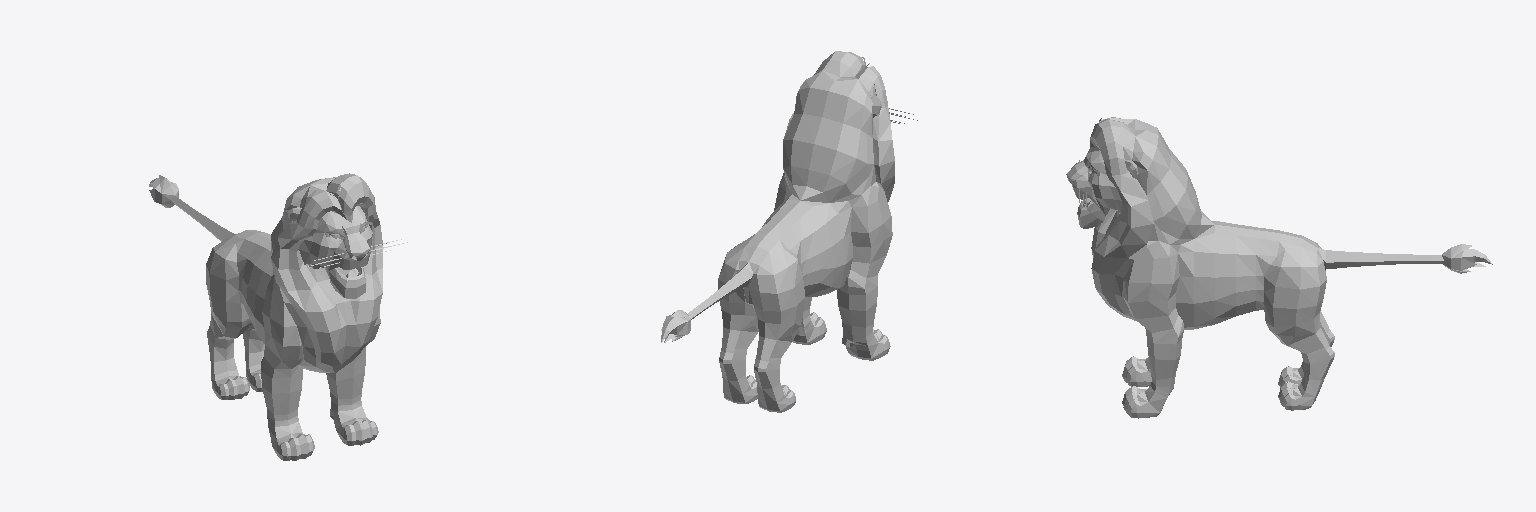
The model's file is zombie5.obj.
3 views of the same model, side by side, from view 1: azimuth 30°, elevation 25°; view 2: azimuth 150°, elevation 25°; view 3: azimuth 270°, elevation 25° (orthographic).
Parts seen in each view (by area): view 1: DrawCall_0, DrawCall_1; view 2: DrawCall_0; view 3: DrawCall_0, DrawCall_1.
Part boxes in pixels (x1,y1,x2,y2): DrawCall_0: (149,173,382,460); DrawCall_1: (288,206,372,298); DrawCall_0: (661,51,894,412); DrawCall_0: (1081,117,1492,418); DrawCall_1: (1066,150,1138,228).
Size of the model in its own units: 0.8794 by 2.18 by 3.03.